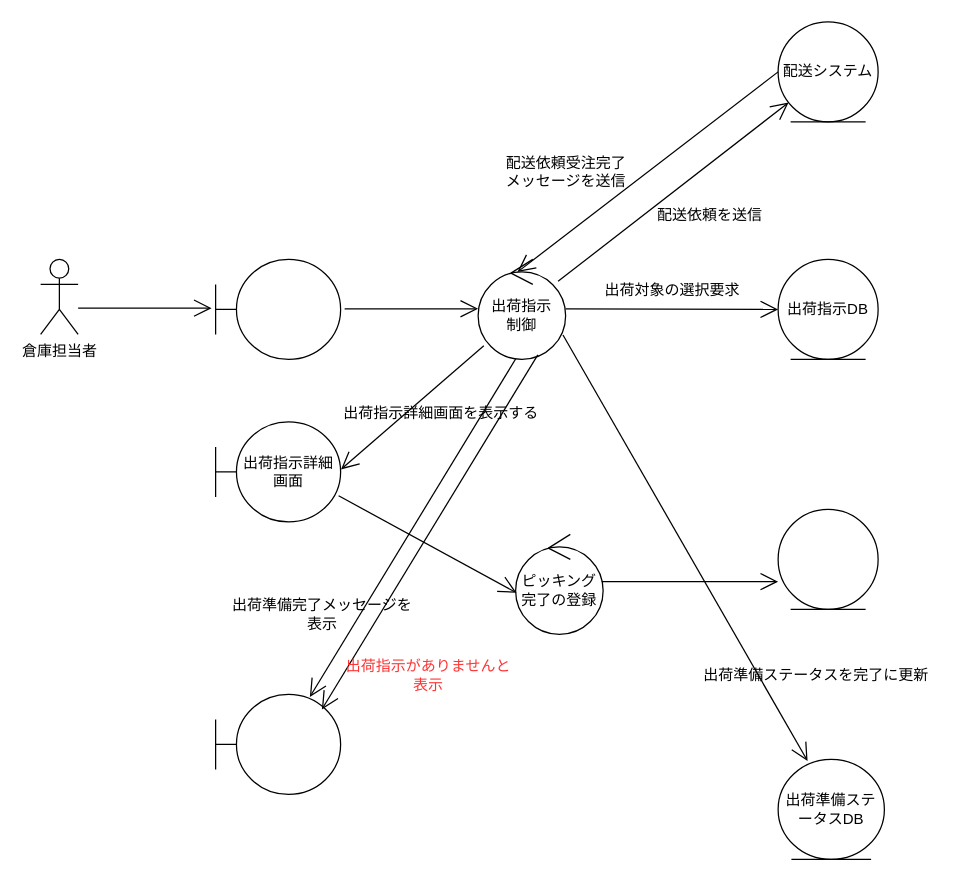
Image size: 961x881. Some labels were removed from this diagram. Each missing label, with the centre of its shape:
ピッキングDB: (x=827, y=558)
メッセージ表示画面: (x=277, y=743)
出荷指示管理一覧: (x=277, y=308)
